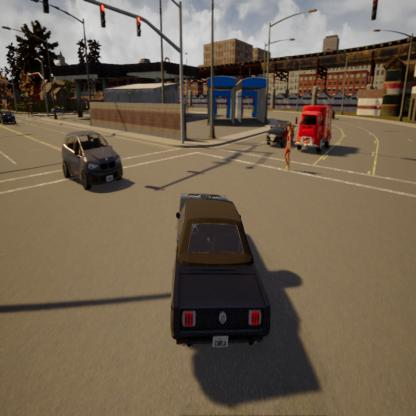Cars: (166, 164, 276, 385), (55, 130, 128, 207), (300, 93, 339, 162), (264, 110, 298, 157), (1, 96, 24, 145)
Pedestrian: (283, 119, 295, 177)
